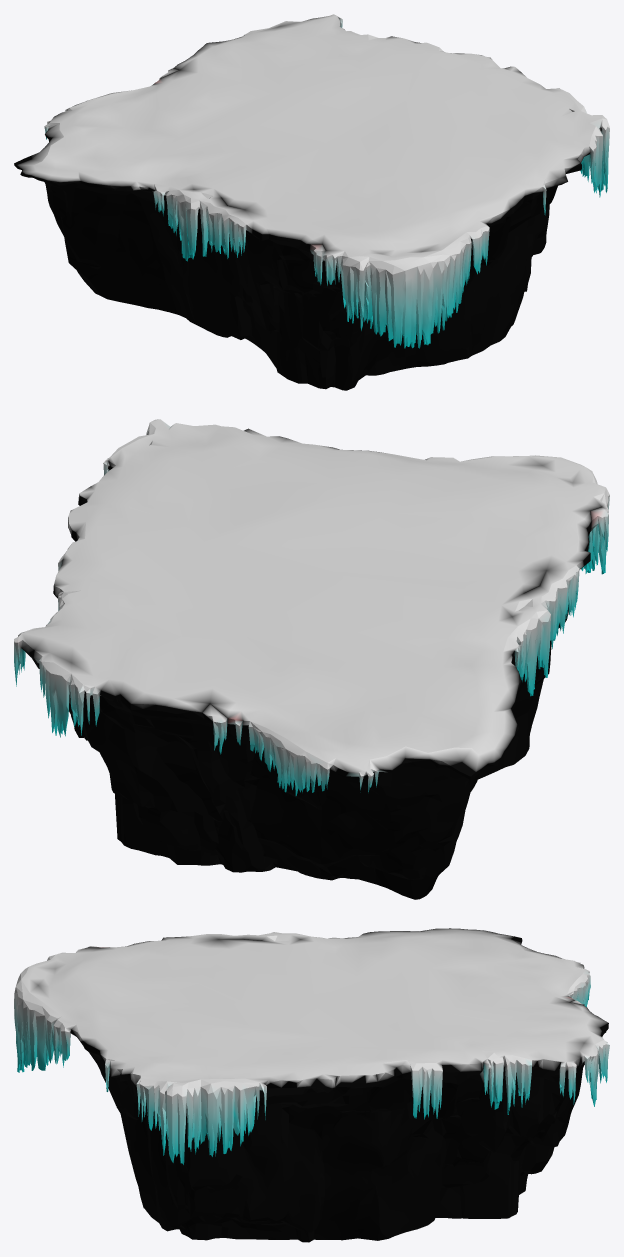
Rendered from CliffIce_3_Warp.fbx.
The picture shows the model from 3 angles, top to bottom: view 1: azimuth 30°, elevation 25°; view 2: azimuth 150°, elevation 25°; view 3: azimuth 270°, elevation 25°; orthographic projection. The views are drawn at different scales.
Parts seen in each view (by area): view 1: CliffIce_3_Warp_LOD0; view 2: CliffIce_3_Warp_LOD0; view 3: CliffIce_3_Warp_LOD0.
Boxes of the visible parts, x1,y1,x2,y2 form: CliffIce_3_Warp_LOD0: (14, 14, 609, 390); CliffIce_3_Warp_LOD0: (14, 419, 609, 899); CliffIce_3_Warp_LOD0: (14, 928, 609, 1242).
Size of what is drawn, in the model's own units: 1705 by 737 by 1951.
